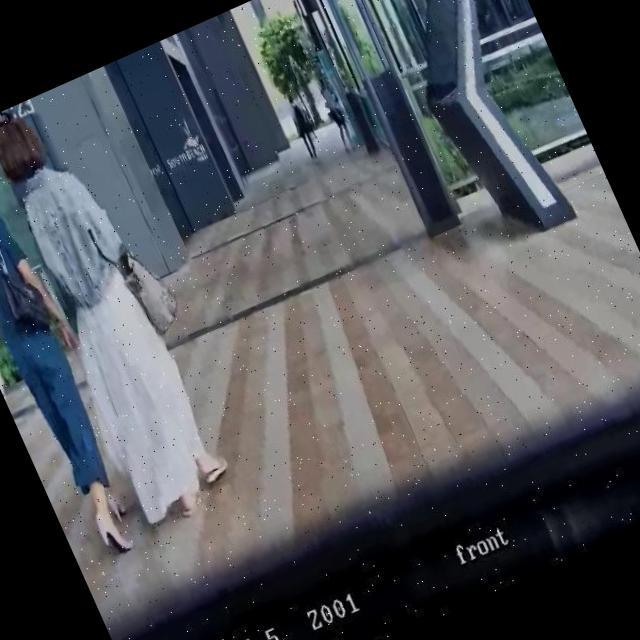person: (0, 85, 242, 538), (0, 142, 162, 572), (312, 71, 360, 154), (284, 94, 325, 161)
